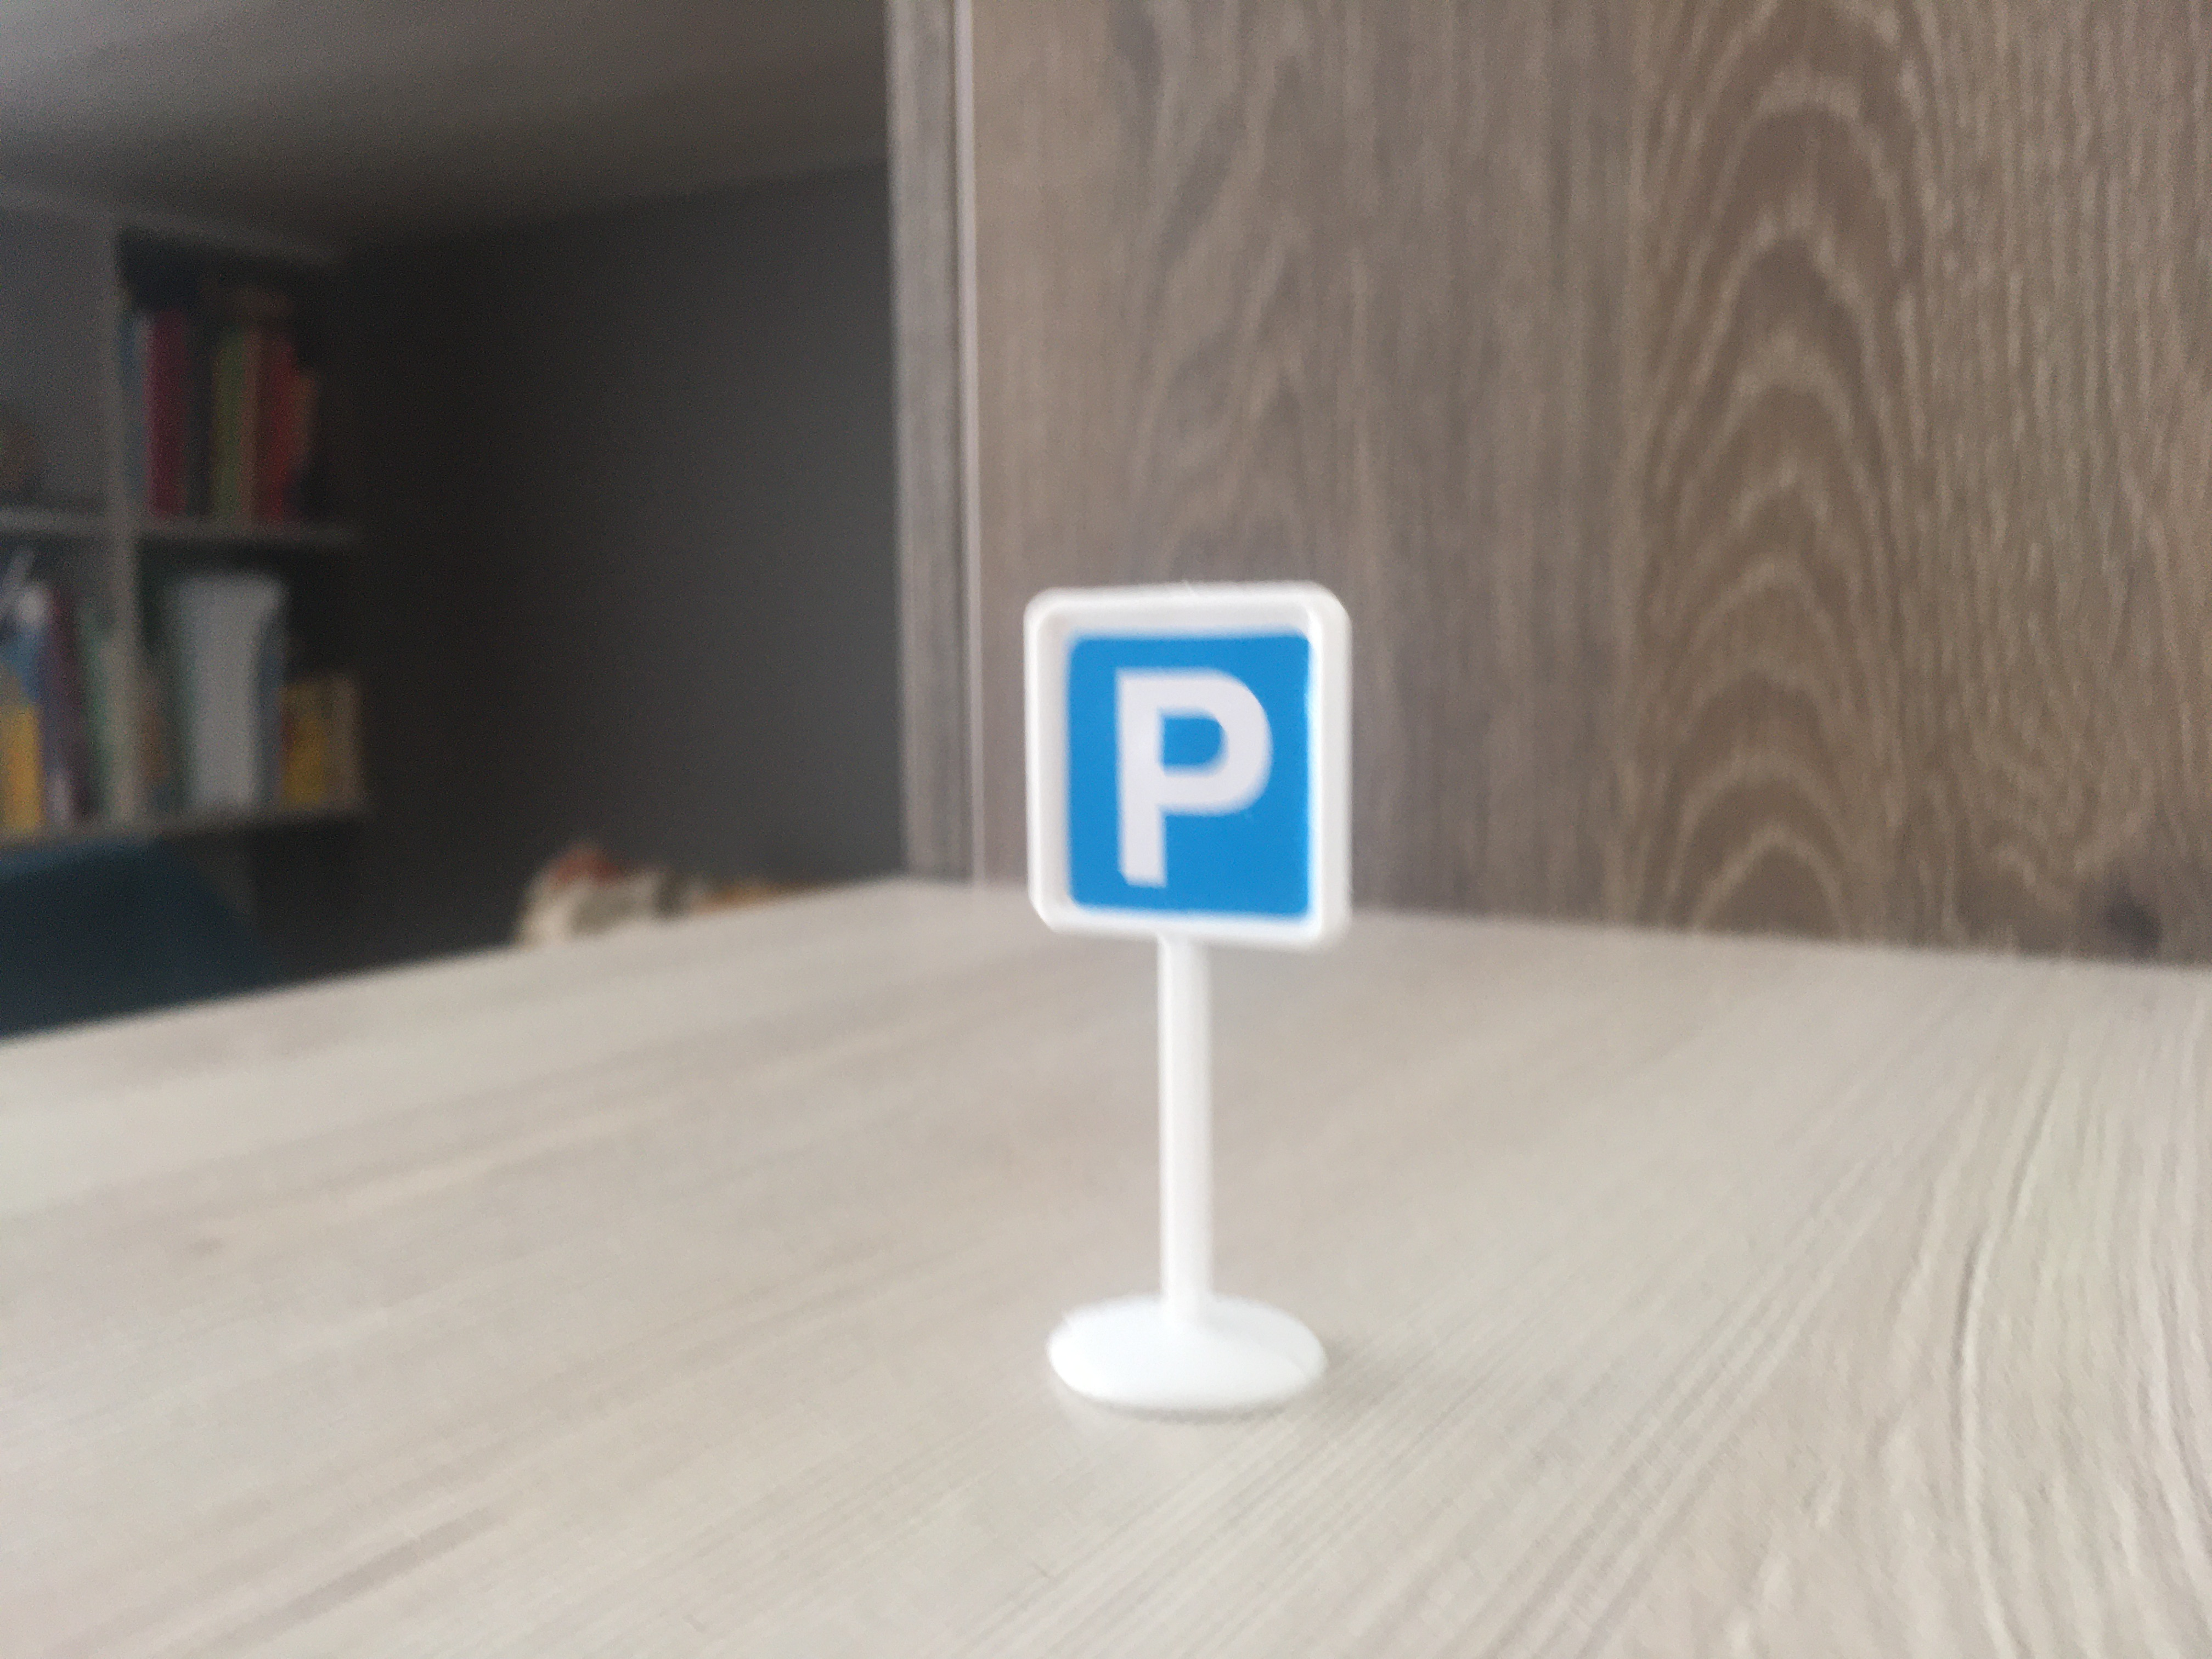parking: (1021, 579, 1355, 960)
